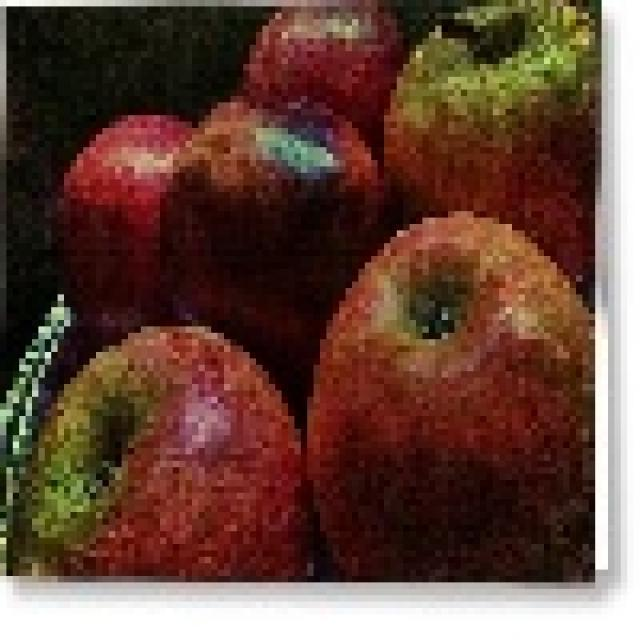Apple: (301, 205, 589, 576), (23, 325, 307, 578), (399, 0, 592, 278), (180, 90, 370, 358), (52, 114, 192, 327), (230, 2, 402, 125)
